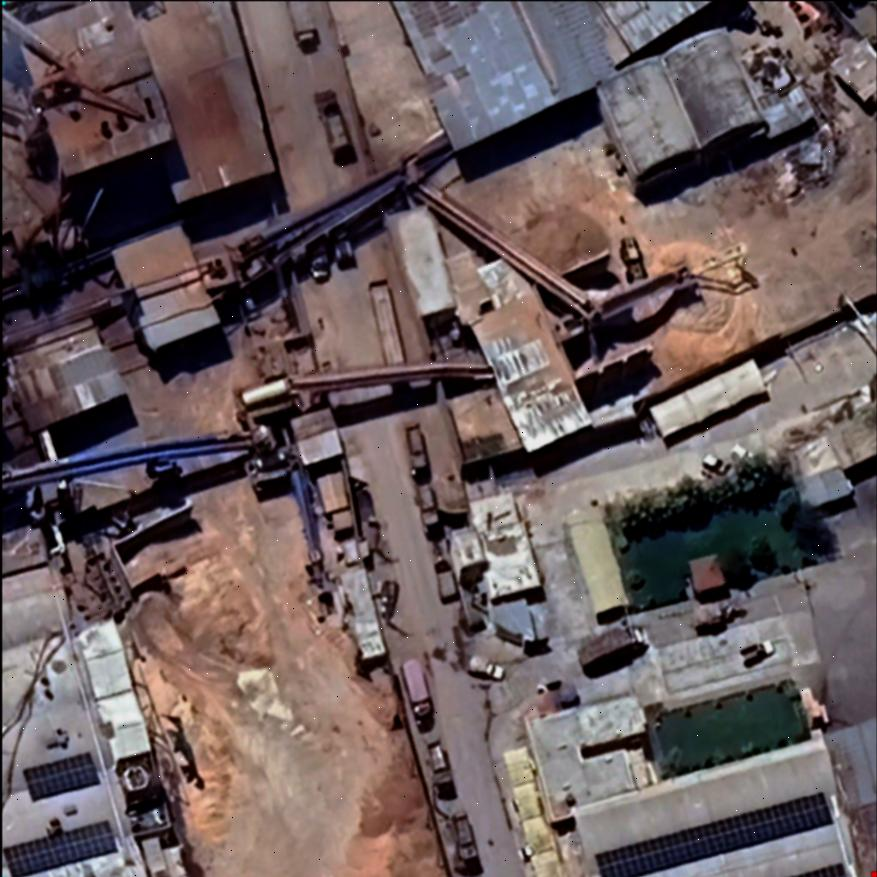Solarpanel: (590, 787, 839, 877), (2, 818, 121, 877), (13, 745, 107, 807), (784, 859, 847, 877)
